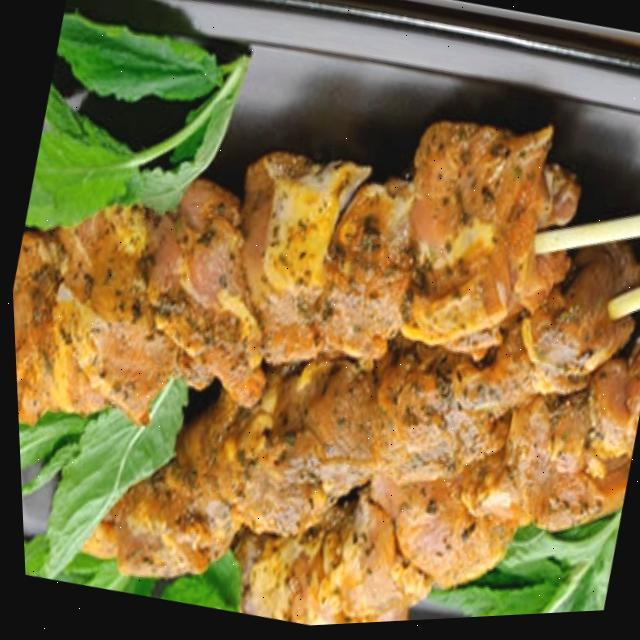烧串烤肉: (1, 6, 640, 640)
